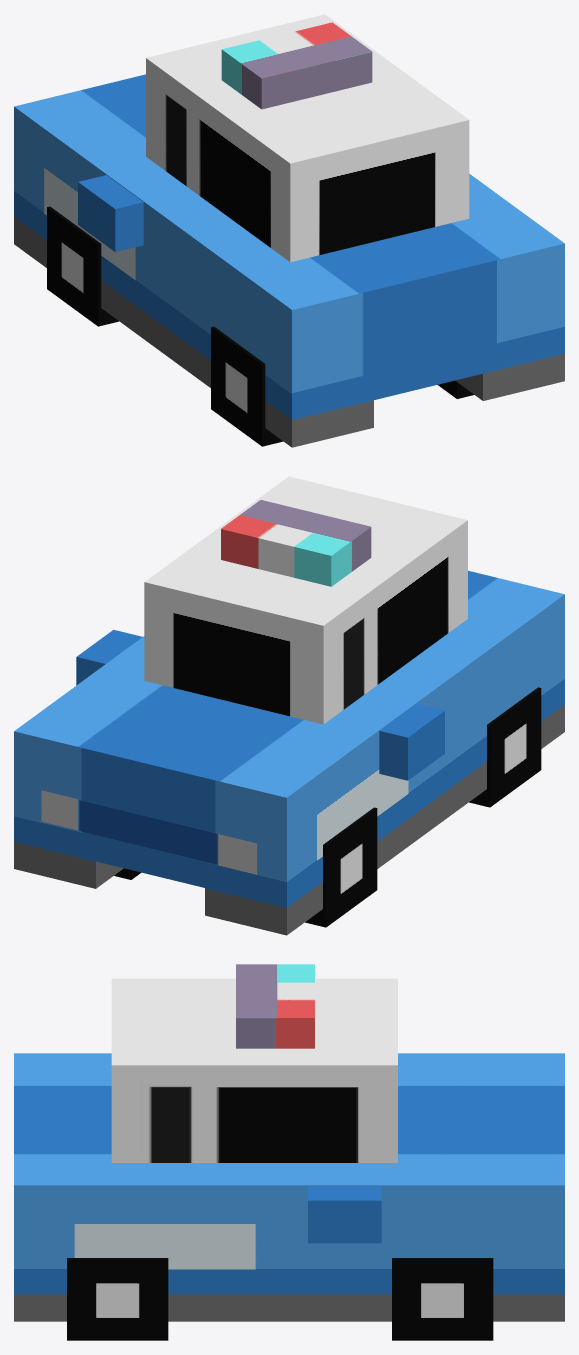
The model's file is police car.fbx.
3 renders of one model, top to bottom at view 1: azimuth 30°, elevation 25°; view 2: azimuth 150°, elevation 25°; view 3: azimuth 270°, elevation 25°, orthographic.
Visible parts, largest first — view 1: midden, dakje, police_lampje, wiel5, wiel6, deurknop7; view 2: midden, dakje, police_lampje, wiel6, wiel5, deurknop7, deurknop1; view 3: midden, dakje, wiel3, wiel4, police_lampje, deurknop1.
Part boxes in pixels (bbox=[...]): midden: bbox=[14, 74, 564, 447]; dakje: bbox=[146, 14, 469, 262]; police_lampje: bbox=[221, 22, 372, 109]; wiel5: bbox=[211, 326, 283, 446]; wiel6: bbox=[47, 206, 118, 326]; deurknop7: bbox=[78, 175, 143, 251]; midden: bbox=[14, 570, 564, 935]; dakje: bbox=[144, 476, 467, 724]; police_lampje: bbox=[221, 500, 371, 586]; wiel6: bbox=[305, 807, 377, 927]; wiel5: bbox=[469, 687, 541, 807]; deurknop7: bbox=[379, 703, 444, 780]; deurknop1: bbox=[76, 629, 142, 685]; midden: bbox=[14, 1053, 564, 1321]; dakje: bbox=[111, 978, 397, 1162]; wiel3: bbox=[392, 1258, 493, 1340]; wiel4: bbox=[67, 1258, 168, 1340]; police_lampje: bbox=[236, 964, 314, 1048]; deurknop1: bbox=[308, 1186, 381, 1243].
Size of the model in its own units: 2.03 by 1.66 by 2.94.
5 materials, 5 textured.
